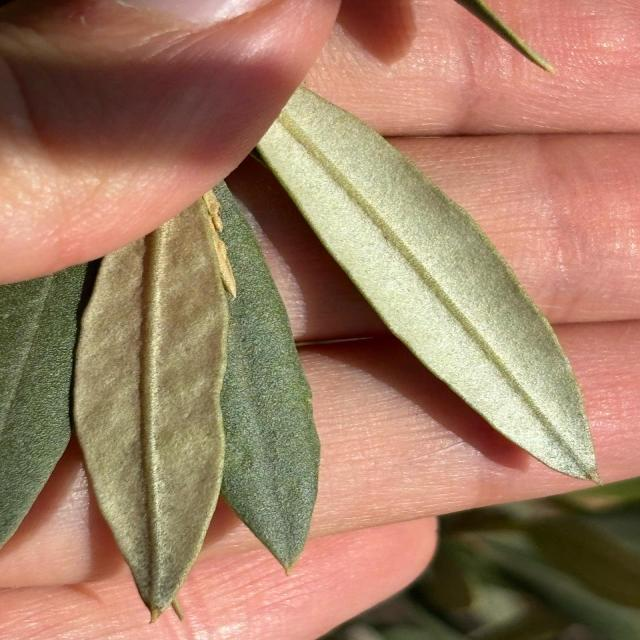Healthy: (257, 88, 600, 482), (73, 197, 229, 620)
